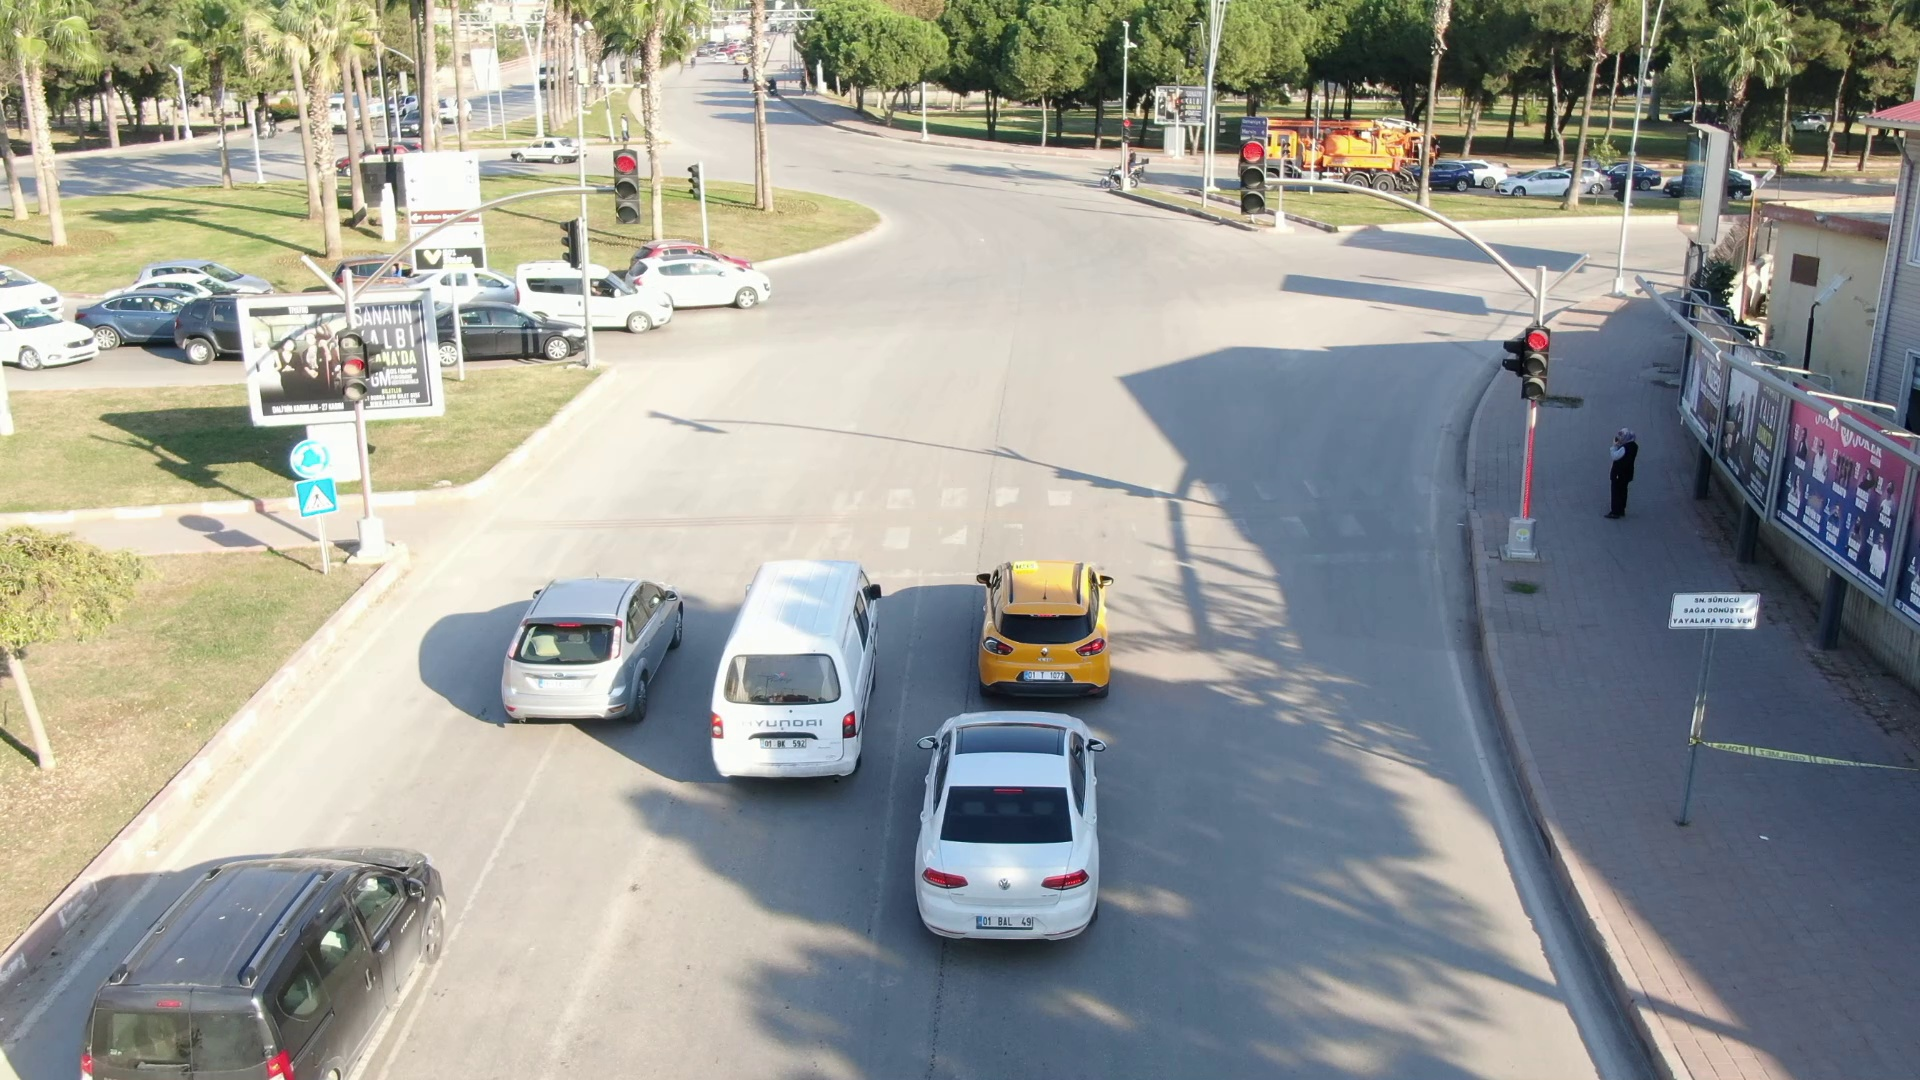car: (86, 849, 445, 1076), (912, 708, 1108, 955), (702, 559, 890, 790), (496, 574, 686, 737), (966, 549, 1112, 704)
person: (1602, 417, 1641, 533)
